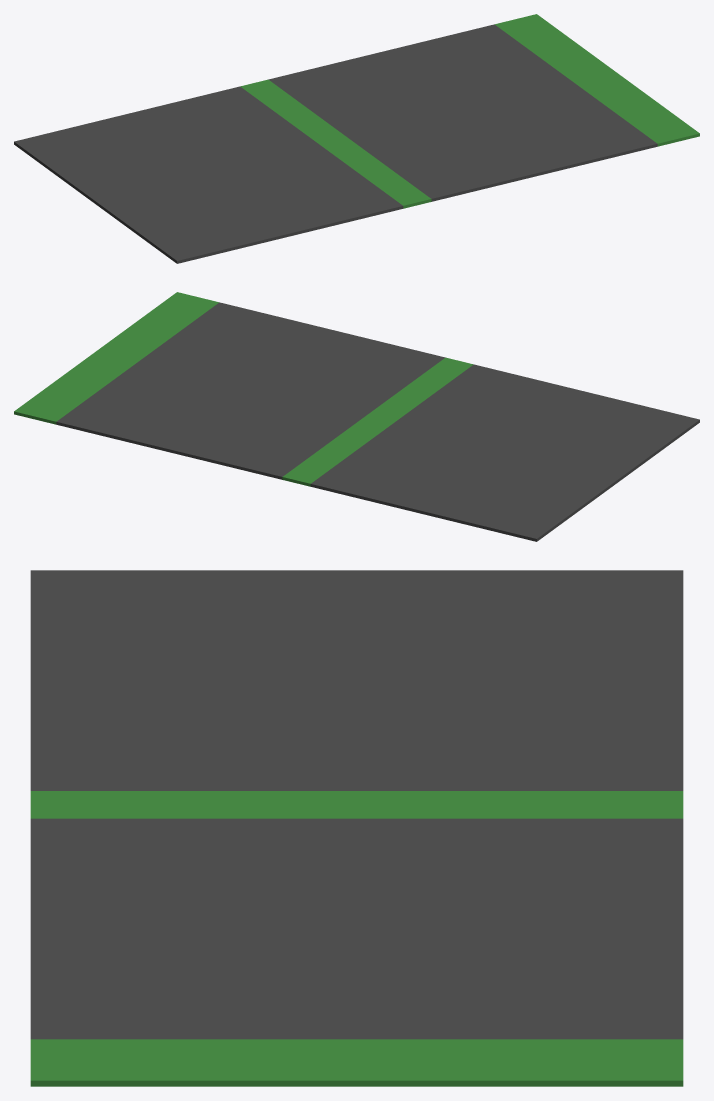
The model's file is RoadV2.glb.
The picture shows the model from 3 angles, top to bottom: view 1: azimuth 30°, elevation 25°; view 2: azimuth 150°, elevation 25°; view 3: azimuth 270°, elevation 25°; orthographic projection. The views are drawn at different scales.
Visible parts, largest first — view 1: Cube.001, Cube.002, Cube.003, Cube; view 2: Cube.001, Cube.002, Cube.003, Cube; view 3: Cube.002, Cube.001, Cube.003, Cube.
Part boxes in pixels (x1=…): Cube.001: x1=14, y1=86, x2=403, y2=263; Cube.002: x1=268, y1=24, x2=657, y2=201; Cube.003: x1=495, y1=14, x2=699, y2=146; Cube: x1=240, y1=79, x2=431, y2=208; Cube.001: x1=310, y1=364, x2=699, y2=541; Cube.002: x1=56, y1=302, x2=445, y2=479; Cube.003: x1=14, y1=292, x2=218, y2=424; Cube: x1=282, y1=357, x2=473, y2=486; Cube.002: x1=30, y1=818, x2=683, y2=1039; Cube.001: x1=30, y1=570, x2=683, y2=790; Cube.003: x1=30, y1=1039, x2=683, y2=1086; Cube: x1=30, y1=791, x2=683, y2=818.
Bounding box in the file's own units: 3700 × 20 × 2000.
